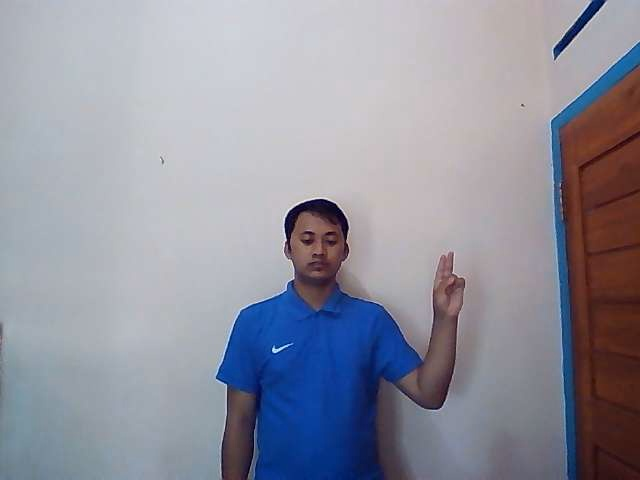U: (431, 251, 466, 316)
